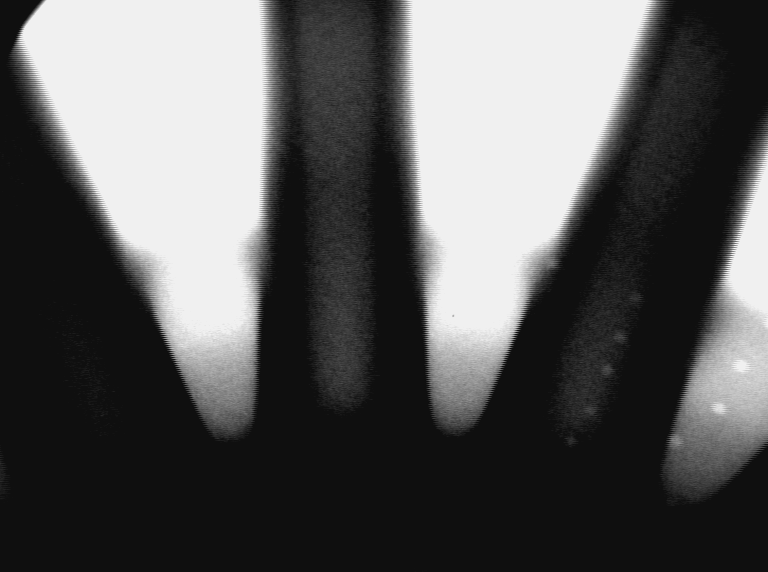defect: (544, 254, 564, 274)
